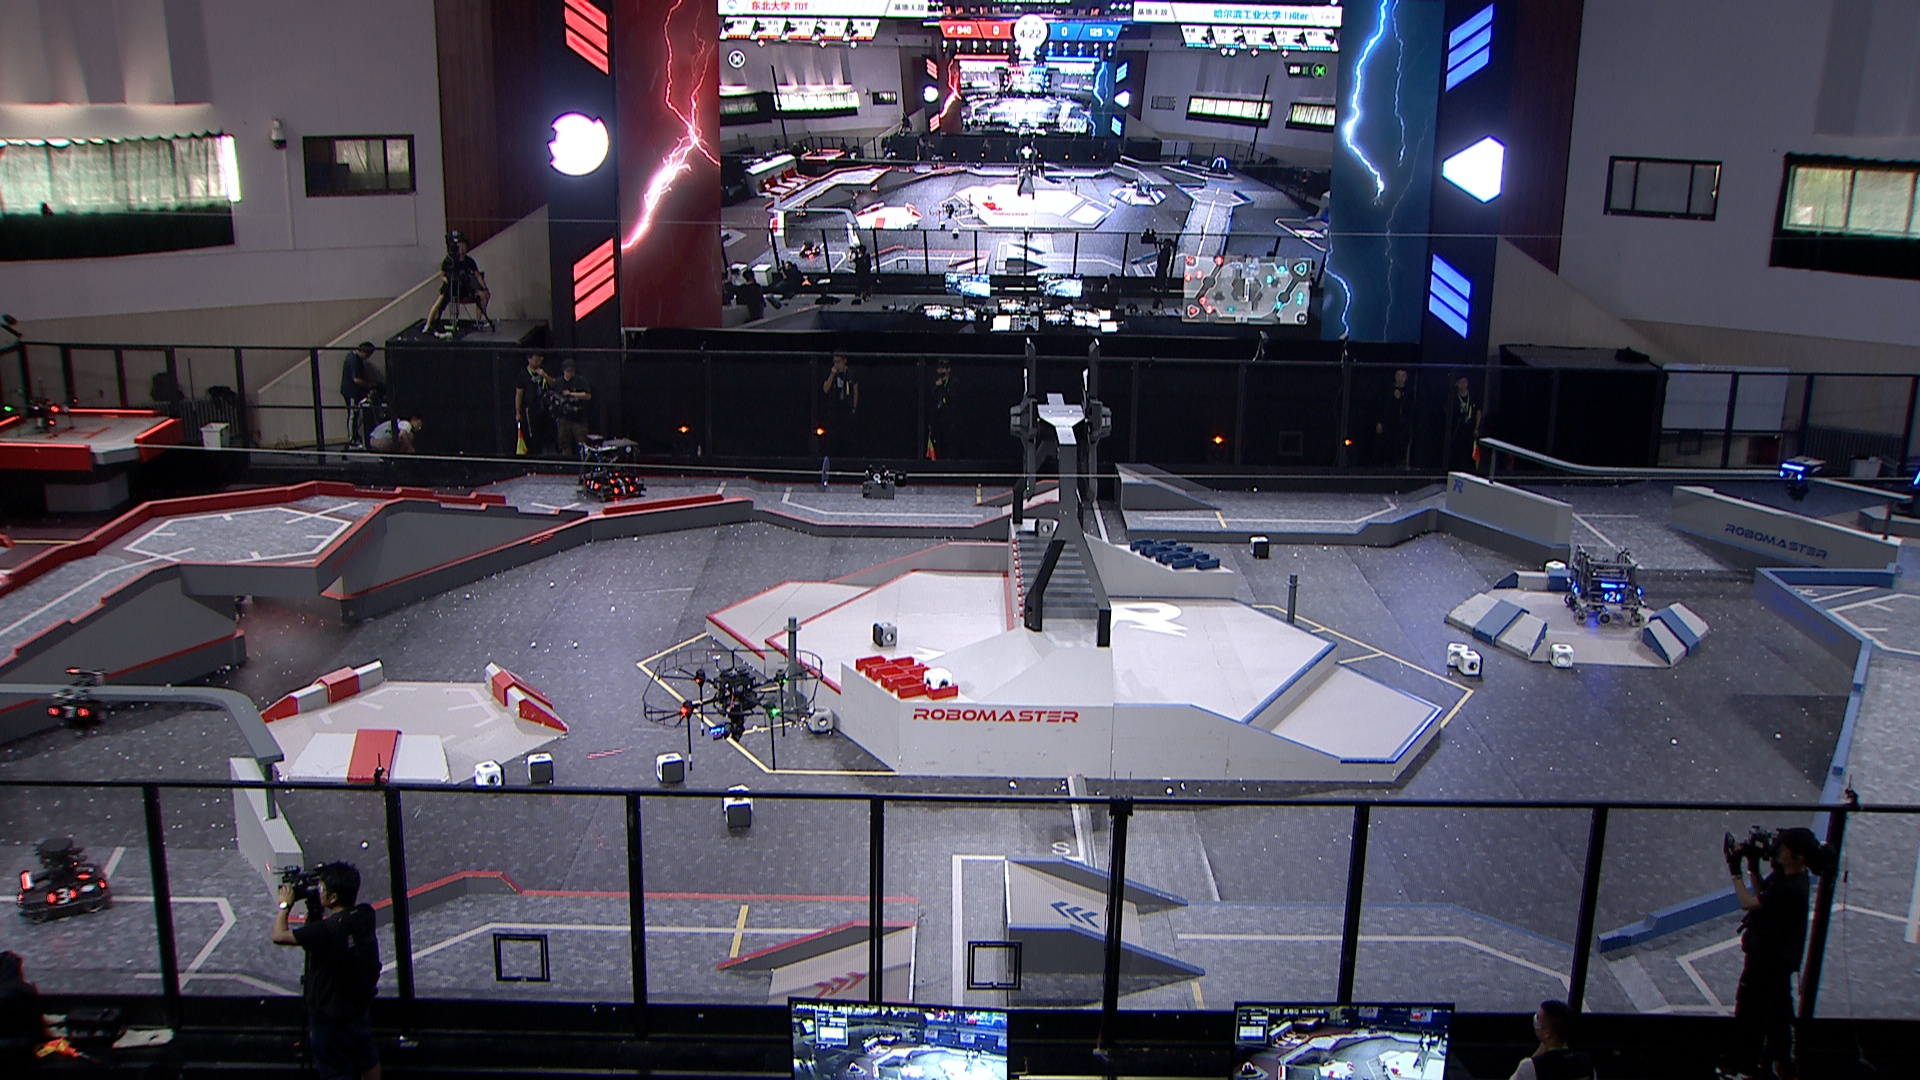armor: (47, 704, 90, 721), (45, 887, 78, 906), (74, 861, 95, 880), (1778, 469, 1804, 483), (608, 475, 633, 487), (1604, 589, 1622, 604), (584, 479, 603, 491), (1567, 580, 1581, 595), (615, 487, 636, 495), (1911, 471, 1920, 487)
base: (1888, 439, 1920, 522)
car: (20, 836, 116, 924), (1564, 543, 1647, 626), (578, 433, 646, 504)
ignore: (799, 239, 822, 258), (1209, 156, 1230, 175), (1135, 181, 1154, 199), (794, 200, 808, 219), (931, 154, 945, 171), (1179, 157, 1191, 171)
watcher: (46, 669, 109, 736), (1776, 456, 1825, 502)
